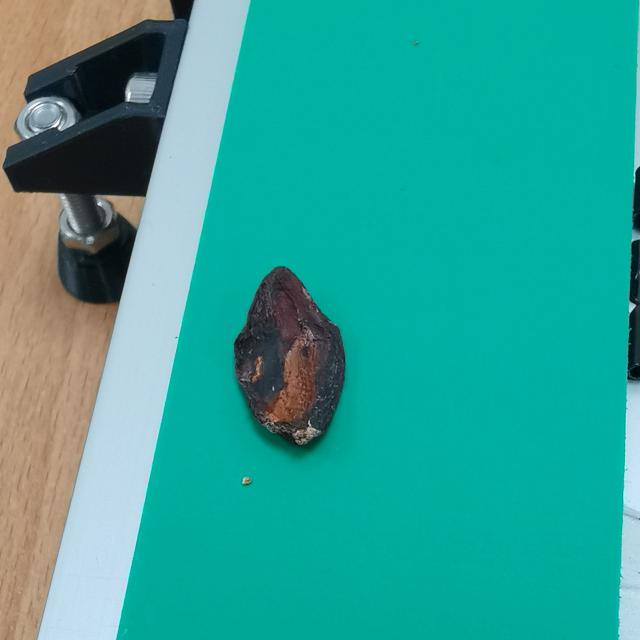Flat_cocoabeans: (201, 251, 386, 486)
